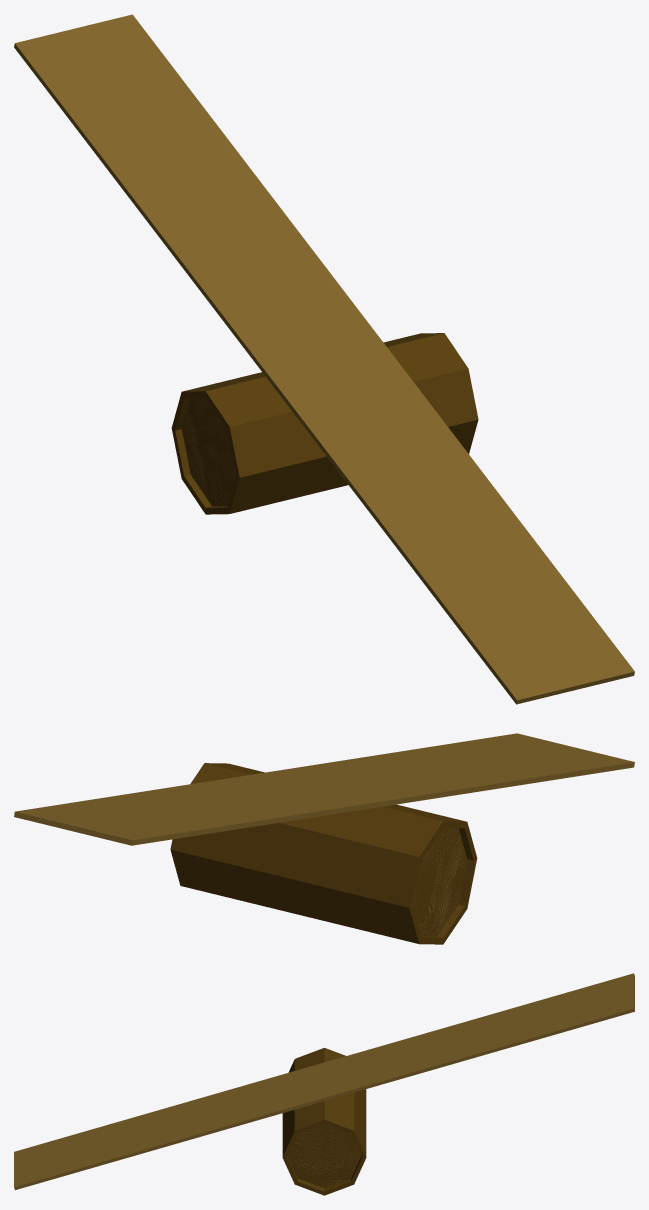
File: woodpendule.fbx
3 renders of one model, top to bottom at view 1: azimuth 30°, elevation 25°; view 2: azimuth 150°, elevation 25°; view 3: azimuth 270°, elevation 25°, orthographic. The views are drawn at different scales.
Parts seen in each view (by area): view 1: plank, log; view 2: log, plank; view 3: plank, log.
Part boxes in pixels (box(x1,y1,x2,y2)): plank: box(14, 14, 634, 704); log: box(171, 333, 478, 514); log: box(170, 763, 477, 944); plank: box(14, 733, 634, 845); plank: box(14, 973, 634, 1190); log: box(282, 1048, 366, 1195).
Bounding box in the file's own units: 709 × 835 × 2587.
